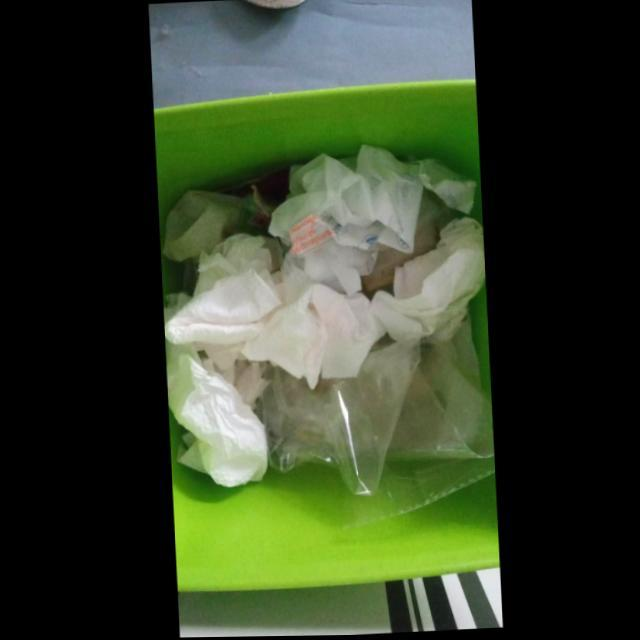paper: (162, 231, 384, 389), (266, 144, 423, 296), (163, 339, 267, 487), (366, 217, 484, 346), (160, 184, 271, 262), (395, 151, 476, 215)
plastic_bag: (253, 318, 493, 525)
